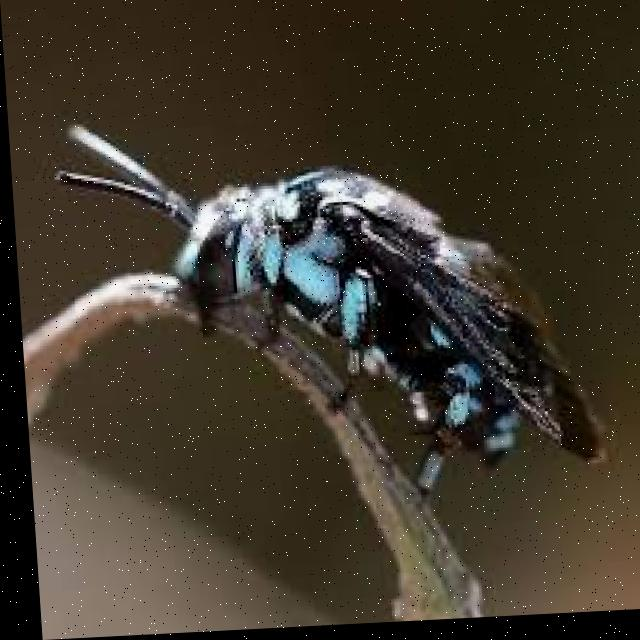Thyreus: (61, 89, 630, 506)
